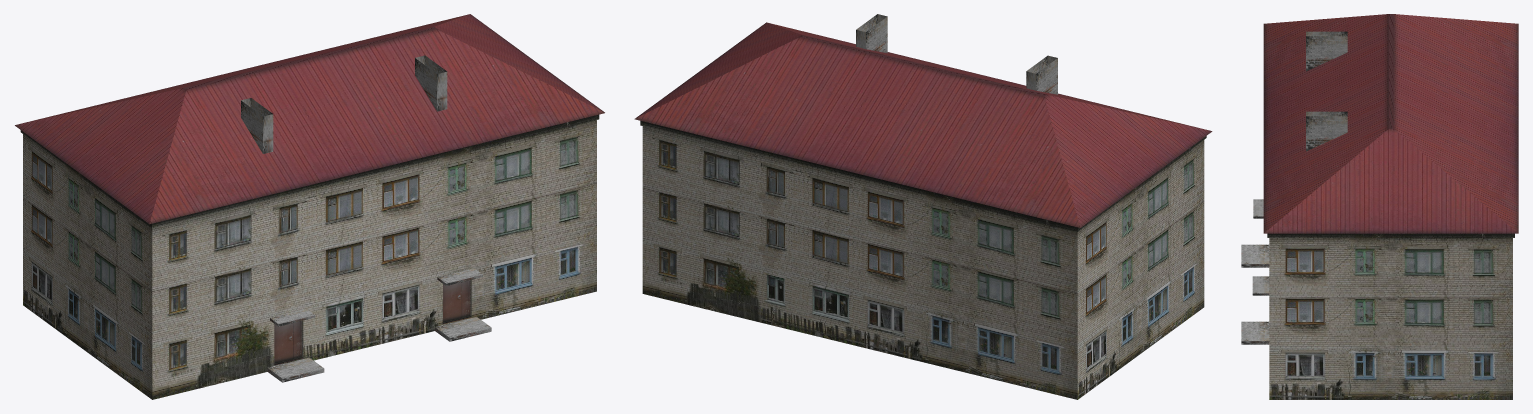
The model's file is minihouse_6.fbx.
The picture shows the model from 3 angles, left to right: view 1: azimuth 30°, elevation 25°; view 2: azimuth 150°, elevation 25°; view 3: azimuth 270°, elevation 25°; orthographic projection. The views are drawn at different scales.
Visible parts, largest first — view 1: be1415bc-165f-4247-9935-ac5a9bc5a8f6; view 2: be1415bc-165f-4247-9935-ac5a9bc5a8f6; view 3: be1415bc-165f-4247-9935-ac5a9bc5a8f6.
Boxes of the visible parts, left/top/right/bottom form: be1415bc-165f-4247-9935-ac5a9bc5a8f6: left=15, top=14, right=604, bottom=399; be1415bc-165f-4247-9935-ac5a9bc5a8f6: left=634, top=14, right=1212, bottom=399; be1415bc-165f-4247-9935-ac5a9bc5a8f6: left=1241, top=14, right=1518, bottom=399.
Size of the model in its own units: 21 by 10.56 by 11.73.
1 material, 1 textured.
